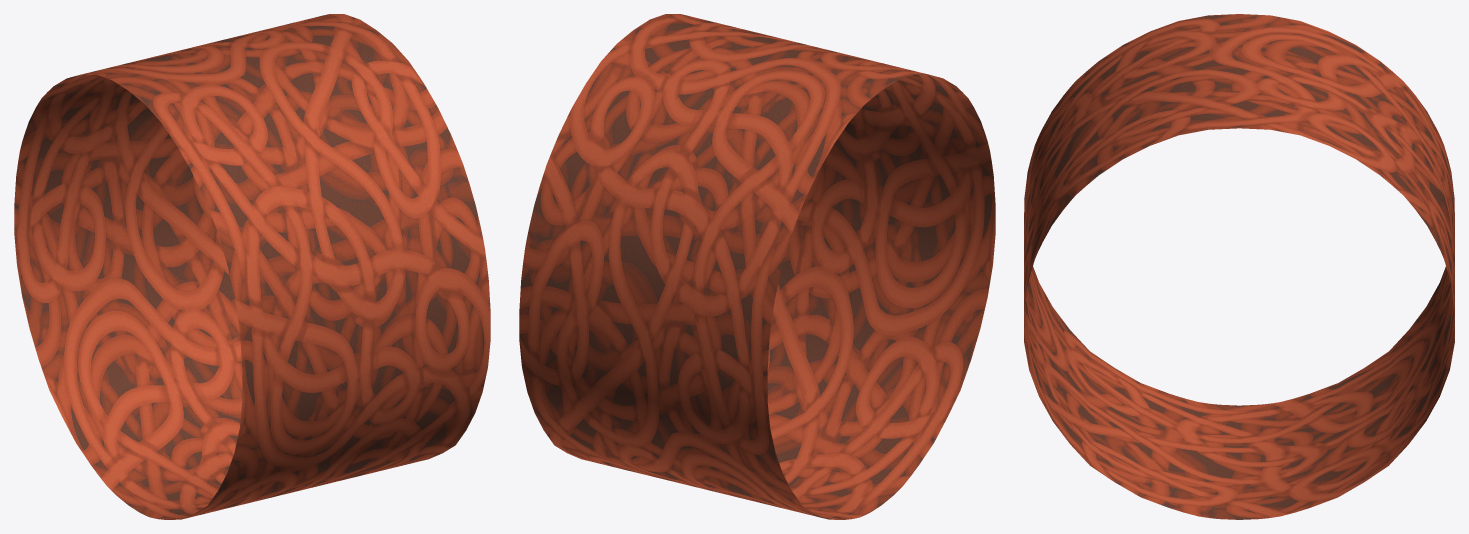
Rendered from pruebaUV_05.fbx.
3 renders of one model, left to right at view 1: azimuth 30°, elevation 25°; view 2: azimuth 150°, elevation 25°; view 3: azimuth 270°, elevation 25°, orthographic. The views are drawn at different scales.
Visible parts, largest first — view 1: LI_SECTION_V5; view 2: LI_SECTION_V5; view 3: LI_SECTION_V5.
Boxes of the visible parts, x1,y1,x2,y2 form: LI_SECTION_V5: (14,14,490,519); LI_SECTION_V5: (519,14,995,519); LI_SECTION_V5: (1024,14,1454,519).
Bounding box in the file's own units: 100 × 160 × 159.
